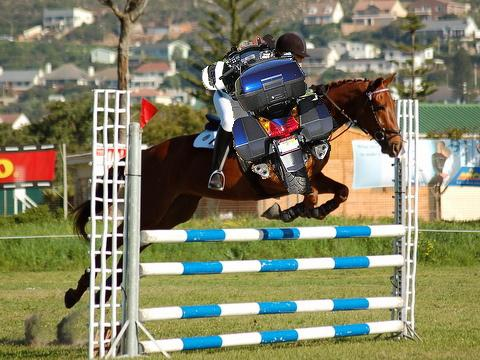tampered: (203, 35, 339, 194)
